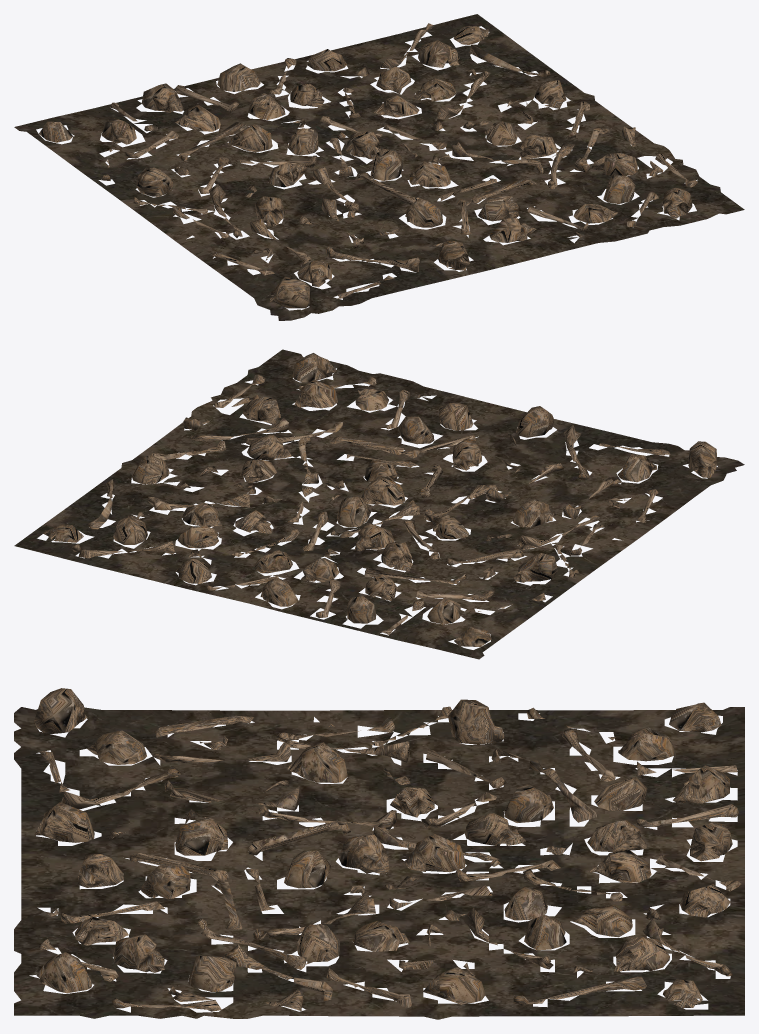
Rendered from ground.m.glb.
3 renders of one model, top to bottom at view 1: azimuth 30°, elevation 25°; view 2: azimuth 150°, elevation 25°; view 3: azimuth 270°, elevation 25°, orthographic. The views are drawn at different scales.
Visible parts, largest first — view 1: BonesAndGround_Ground_0, BonesAndGround_Bones_0; view 2: BonesAndGround_Ground_0, BonesAndGround_Bones_0; view 3: BonesAndGround_Ground_0, BonesAndGround_Bones_0.
Boxes of the visible parts, x1=… form: BonesAndGround_Ground_0: x1=14, y1=14, x2=744, y2=320; BonesAndGround_Bones_0: x1=39, y1=23, x2=698, y2=308; BonesAndGround_Ground_0: x1=14, y1=349, x2=744, y2=659; BonesAndGround_Bones_0: x1=43, y1=353, x2=717, y2=646; BonesAndGround_Ground_0: x1=14, y1=707, x2=744, y2=1019; BonesAndGround_Bones_0: x1=34, y1=688, x2=741, y2=1011.
Bounding box in the file's own units: 200 × 10.5 × 198.
2 materials, 2 textured.
